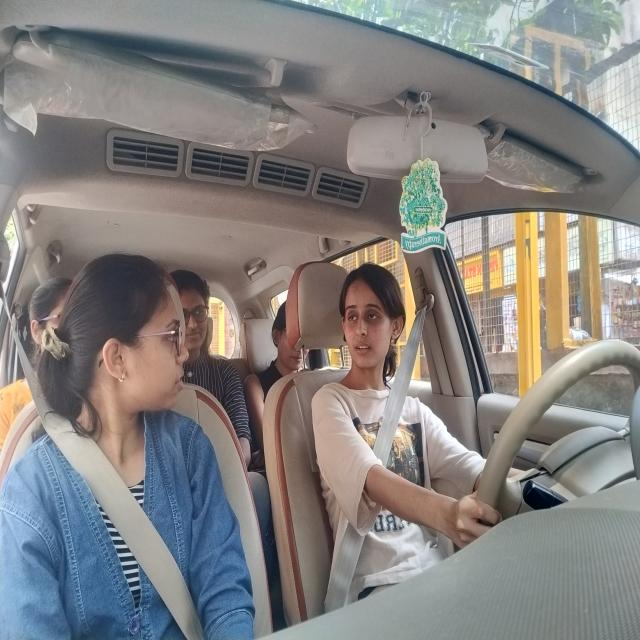LeftRight: (341, 259, 404, 376)
person: (63, 251, 189, 437), (26, 281, 71, 370), (174, 270, 213, 356), (273, 296, 301, 370)
talking: (352, 340, 372, 358), (175, 370, 188, 397)
